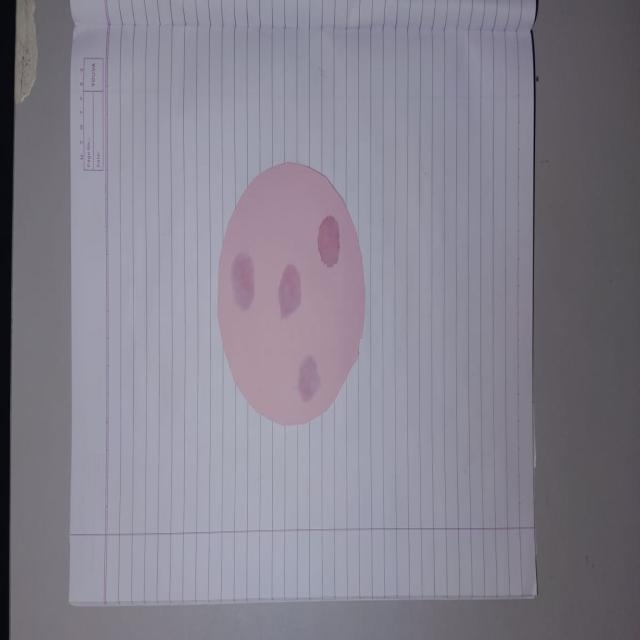BlueColor: (231, 253, 254, 309), (278, 265, 301, 318), (318, 215, 340, 268), (298, 356, 321, 401)
